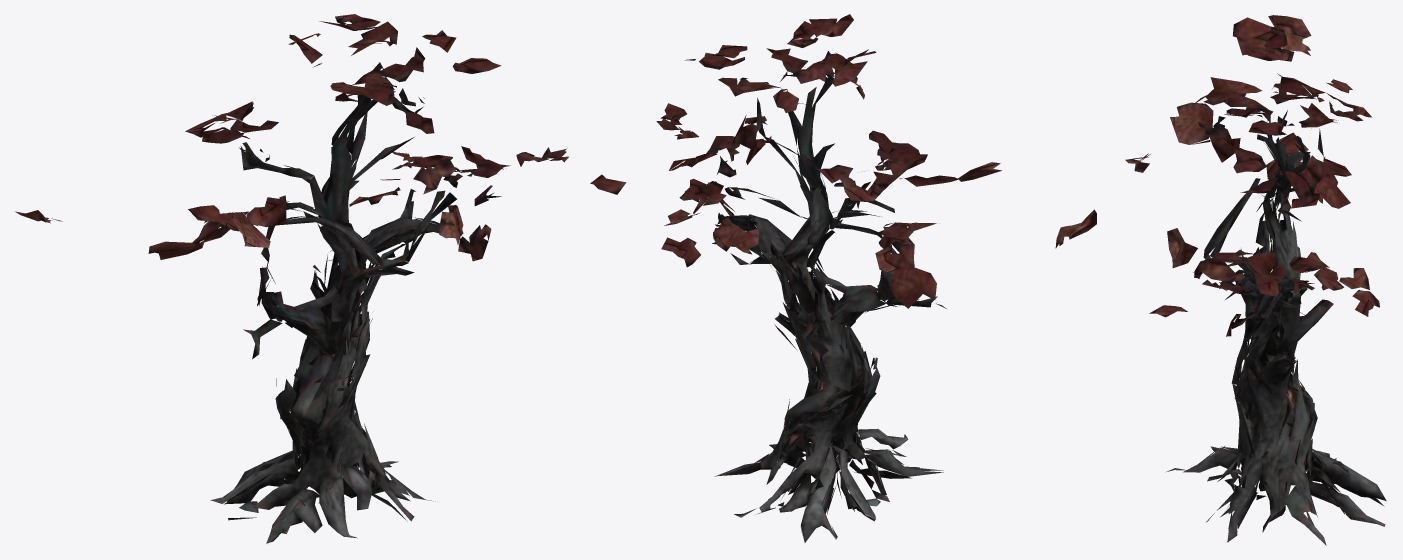
File: arvore_brasa_jovem.glb
3 views of the same model, side by side, from view 1: azimuth 30°, elevation 25°; view 2: azimuth 150°, elevation 25°; view 3: azimuth 270°, elevation 25° (orthographic). The views are drawn at different scales.
Parts seen in each view (by area): view 1: geometry_0; view 2: geometry_0; view 3: geometry_0.
Part boxes in pixels (x1=…): geometry_0: x1=15, y1=14, x2=626, y2=543; geometry_0: x1=656, y1=14, x2=1096, y2=542; geometry_0: x1=1125, y1=15, x2=1386, y2=545.
Bounding box in the file's own units: 0.9704 × 0.8962 × 0.4312.
1 material, 1 textured.
